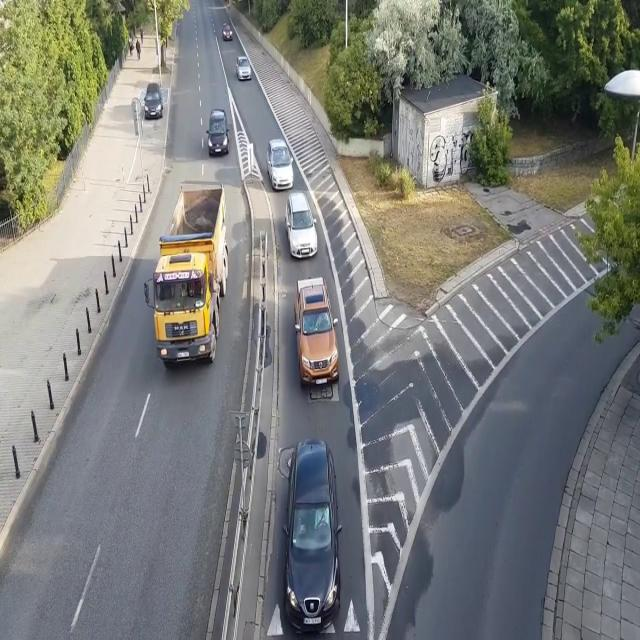car: (281, 437, 342, 630), (293, 274, 341, 389), (284, 192, 319, 260), (267, 136, 294, 193), (205, 108, 231, 155), (143, 81, 164, 120), (236, 55, 252, 81), (222, 21, 233, 42)
truck: (143, 180, 229, 366)
